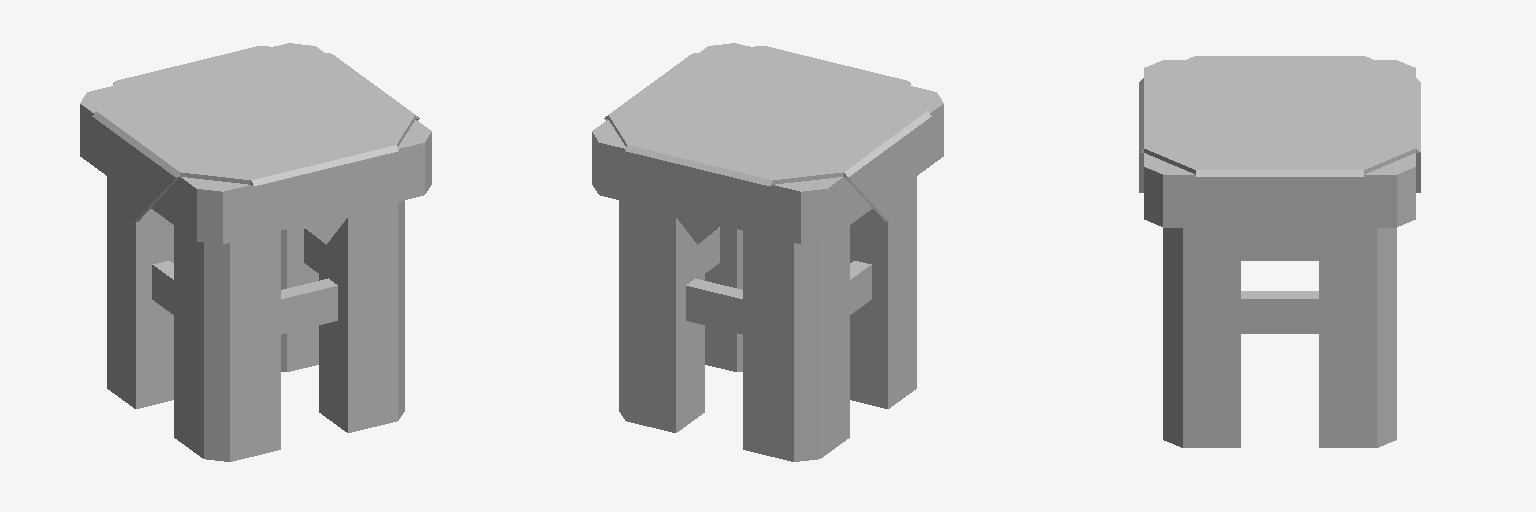
Rendered from table_decorative.obj.
The picture shows the model from 3 angles: view 1: azimuth 30°, elevation 25°; view 2: azimuth 150°, elevation 25°; view 3: azimuth 270°, elevation 25°; orthographic projection.
Visible parts, largest first — view 1: TABLE_LEGS_TABLE_LEGS, TABLECLOTH_TABLECLOTH, TABLE_TOP_TABLE_TOP; view 2: TABLE_LEGS_TABLE_LEGS, TABLECLOTH_TABLECLOTH, TABLE_TOP_TABLE_TOP; view 3: TABLE_LEGS_TABLE_LEGS, TABLECLOTH_TABLECLOTH, TABLE_TOP_TABLE_TOP.
Boxes of the visible parts, <box> form: TABLE_LEGS_TABLE_LEGS: <box>107,176,404,461</box>; TABLECLOTH_TABLECLOTH: <box>92,46,419,244</box>; TABLE_TOP_TABLE_TOP: <box>80,43,431,244</box>; TABLE_LEGS_TABLE_LEGS: <box>619,176,916,461</box>; TABLECLOTH_TABLECLOTH: <box>604,46,931,244</box>; TABLE_TOP_TABLE_TOP: <box>592,43,943,244</box>; TABLE_LEGS_TABLE_LEGS: <box>1163,228,1396,447</box>; TABLECLOTH_TABLECLOTH: <box>1139,56,1420,251</box>; TABLE_TOP_TABLE_TOP: <box>1144,60,1415,227</box>.
Size of the model in its own units: 0.9062 by 1.02 by 0.9062.